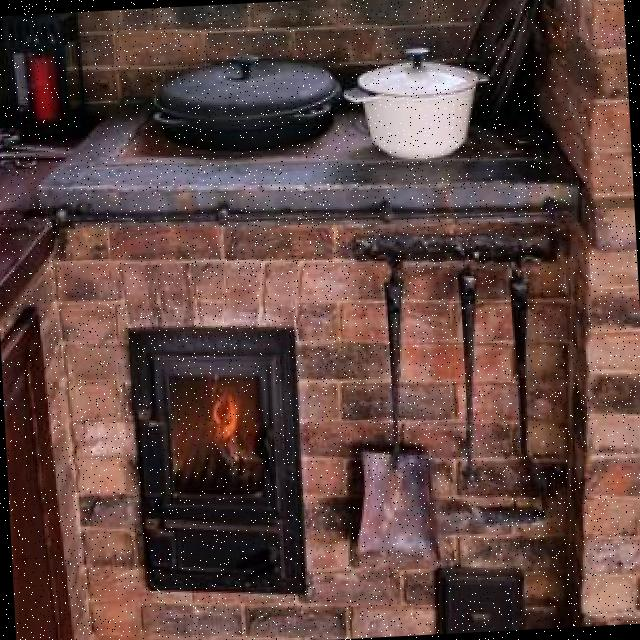fire: (197, 392, 244, 458)
